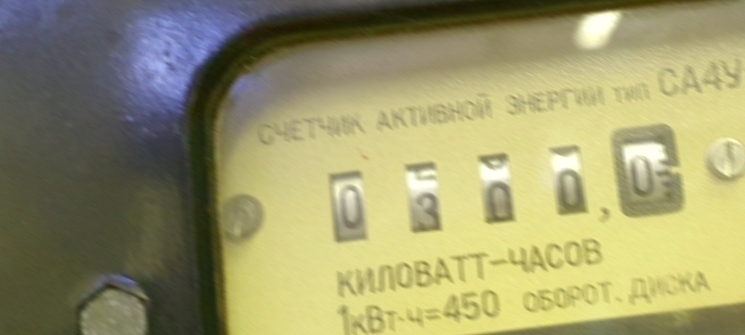0: (624, 150, 657, 202), (551, 165, 585, 215), (334, 179, 365, 233), (481, 176, 514, 226)
3: (409, 188, 442, 234)
screen: (304, 115, 694, 265)
